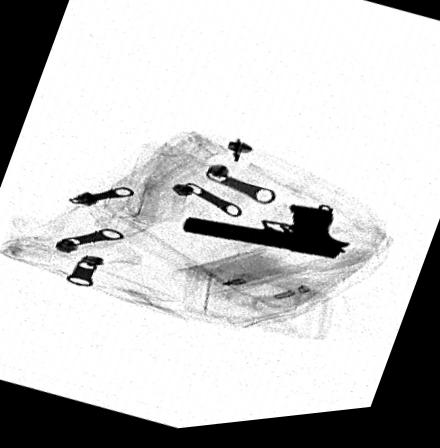Gun: (180, 207, 349, 267)
